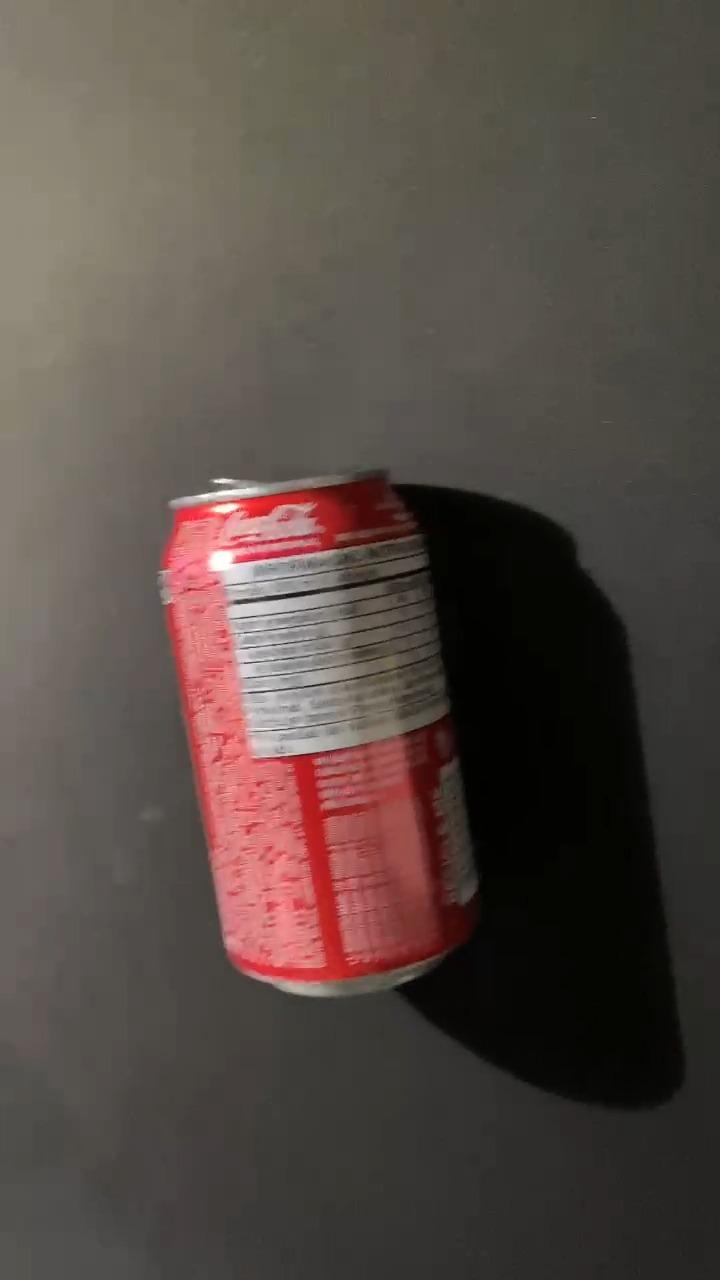coke: (153, 472, 490, 996)
